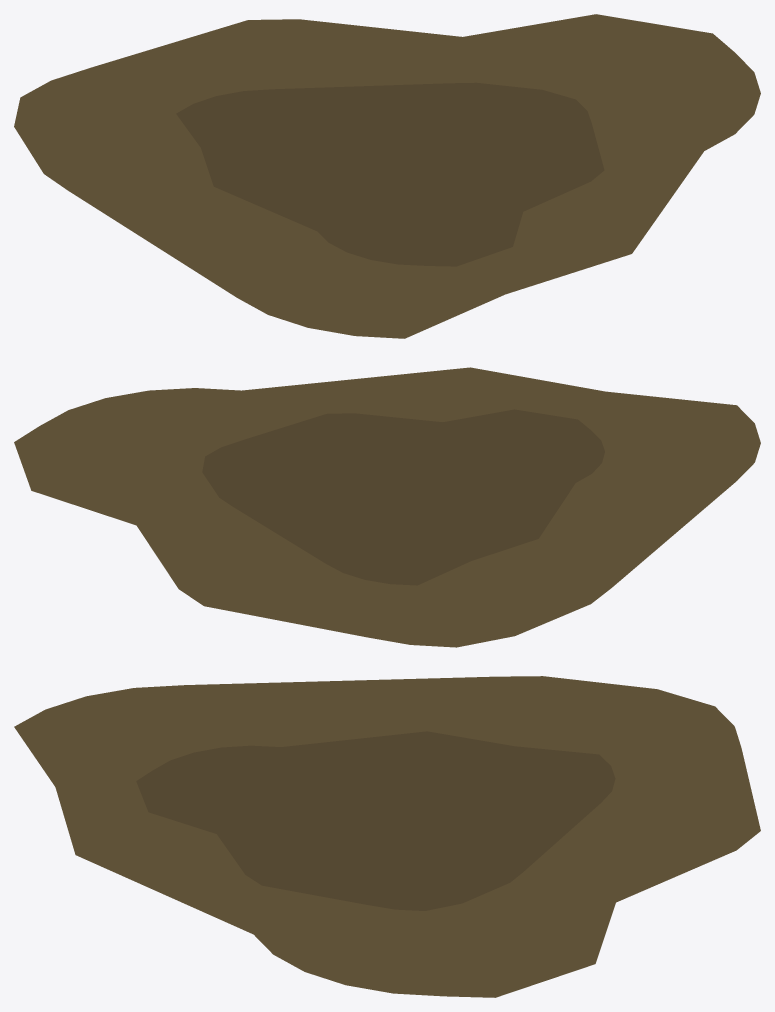
File: CharcoDeLodo2.fbx
3 renders of one model, top to bottom at view 1: azimuth 30°, elevation 25°; view 2: azimuth 150°, elevation 25°; view 3: azimuth 270°, elevation 25°, orthographic. The views are drawn at different scales.
Parts seen in each view (by area): view 1: Lodito:pDisc8; view 2: Lodito:pDisc8; view 3: Lodito:pDisc8.
Part boxes in pixels (<box>): Lodito:pDisc8: <box>14,14,760,338</box>; Lodito:pDisc8: <box>14,367,760,647</box>; Lodito:pDisc8: <box>14,676,760,997</box>.
Bounding box in the file's own units: 3.85 × 0.00686 × 3.78.
